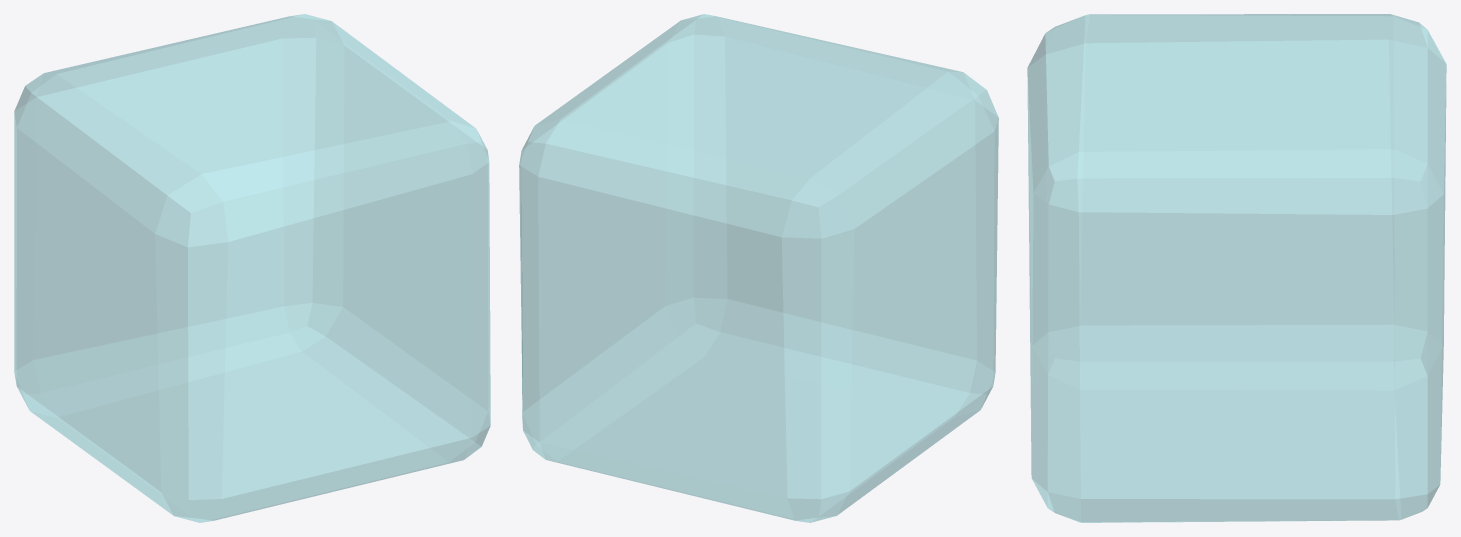
Rendered from CIceCube2.fbx.
3 views of the same model, side by side, from view 1: azimuth 30°, elevation 25°; view 2: azimuth 150°, elevation 25°; view 3: azimuth 270°, elevation 25° (orthographic). The views are drawn at different scales.
Visible parts, largest first — view 1: Cube; view 2: Cube; view 3: Cube.
Part boxes in pixels (x1=…): Cube: x1=14, y1=14, x2=490, y2=522; Cube: x1=519, y1=14, x2=998, y2=522; Cube: x1=1027, y1=14, x2=1446, y2=522.
Size of the model in its own units: 383 by 383 by 386.
